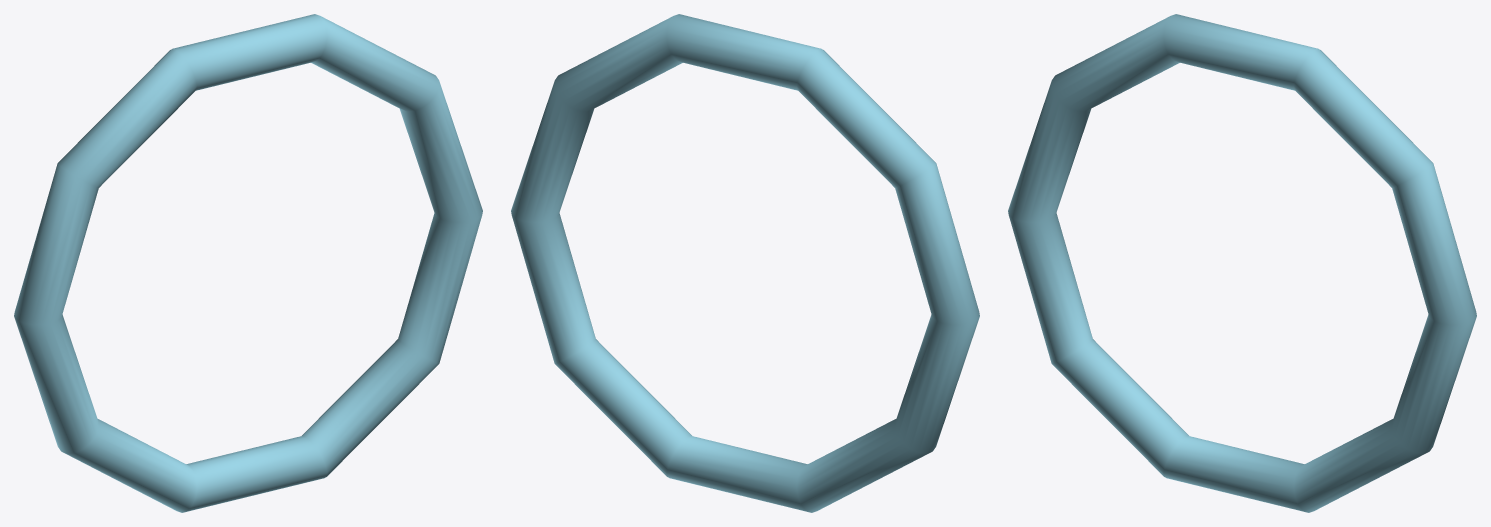
File: Ring.gltf
The picture shows the model from 3 angles, left to right: view 1: azimuth 30°, elevation 25°; view 2: azimuth 150°, elevation 25°; view 3: azimuth 330°, elevation 25°; orthographic projection.
Parts seen in each view (by area): view 1: Torus; view 2: Torus; view 3: Torus.
Part boxes in pixels (x1=…): Torus: x1=14, y1=14, x2=482, y2=512; Torus: x1=511, y1=14, x2=979, y2=512; Torus: x1=1008, y1=14, x2=1476, y2=512.
Bounding box in the file's own units: 55 × 52.31 × 5.
